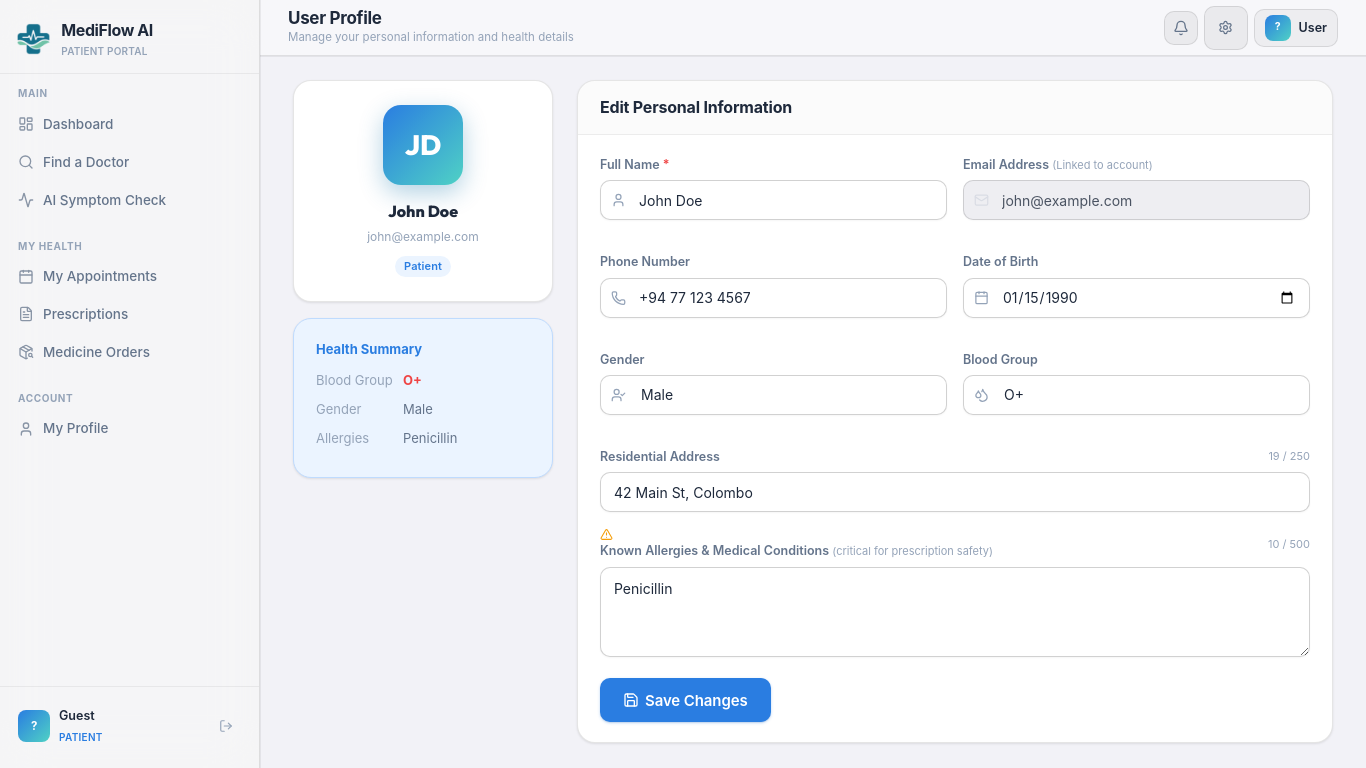
Patient Portal Validations › ProfilePage Validations › validates invalid phone number format
Step 1. Type "invalid-phone-abc" into the field labelled "Phone Number" → [774, 298], box [600, 278, 947, 318]
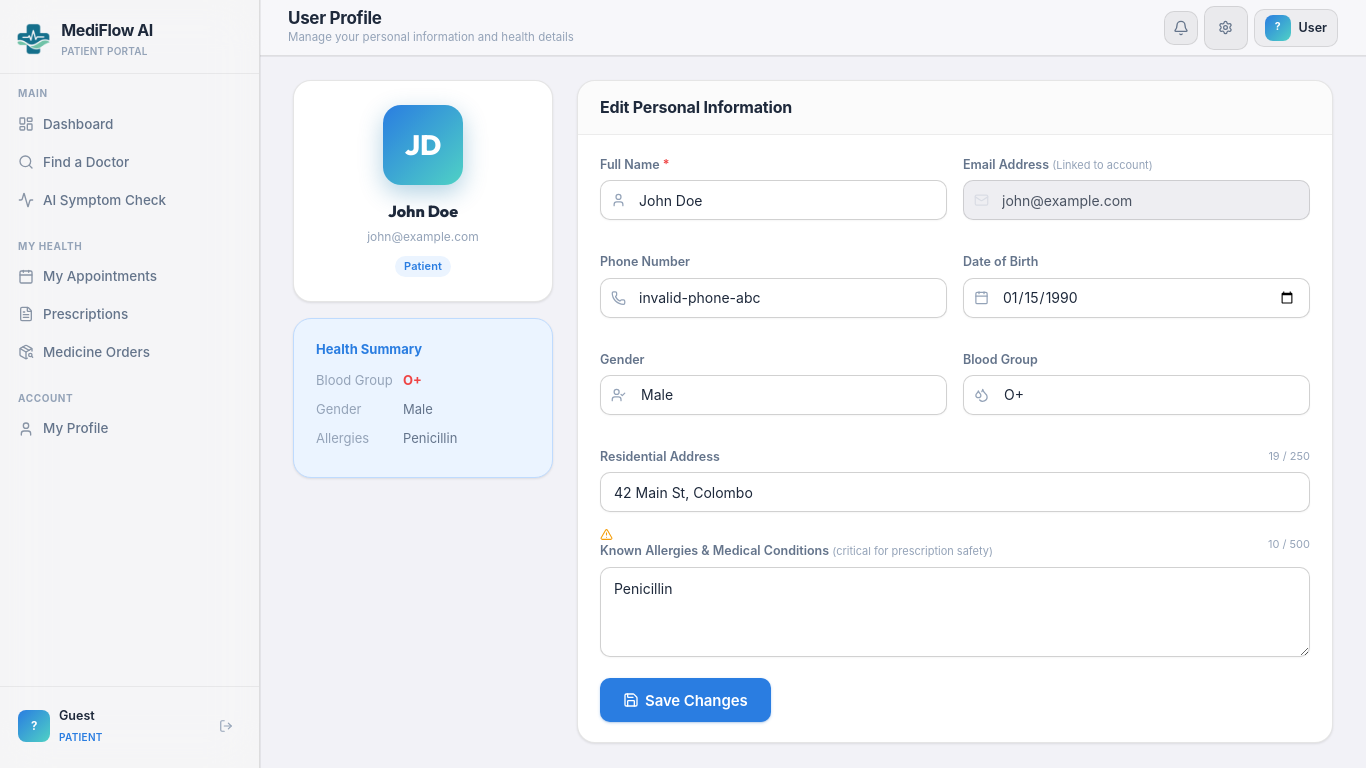
Step 2. Leave the field labelled "Phone Number", box [600, 278, 947, 318]
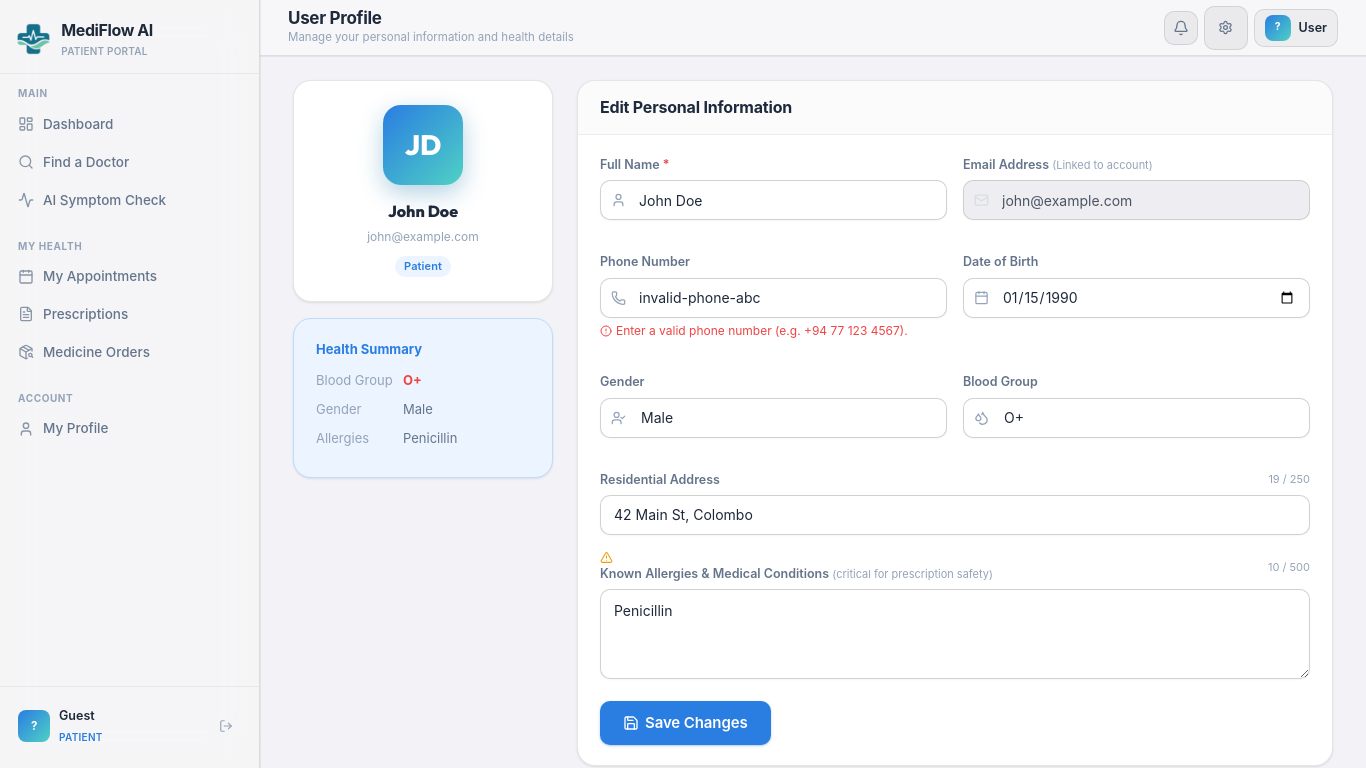
Expected: the text "Enter a valid phone number (e.g. +94 77 123 4567)." is shown, [600, 322, 947, 340]
